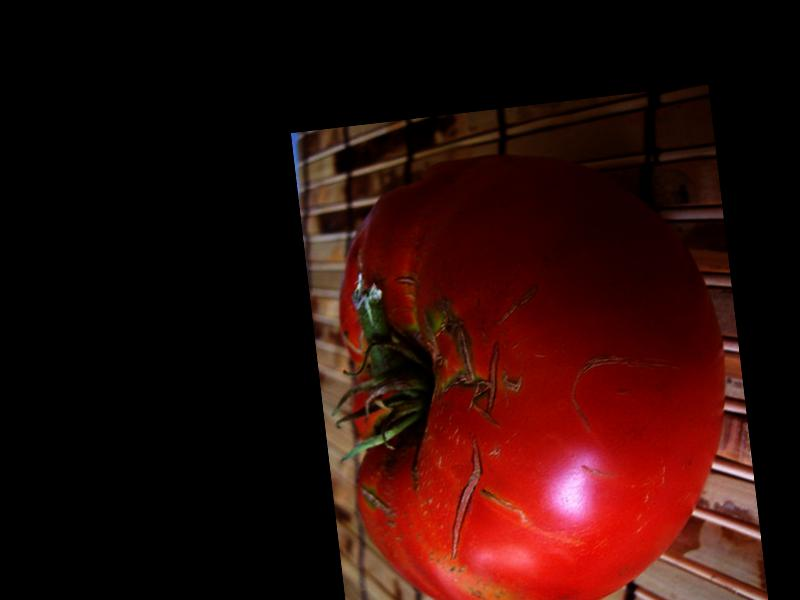Tomato: (318, 132, 745, 600)
